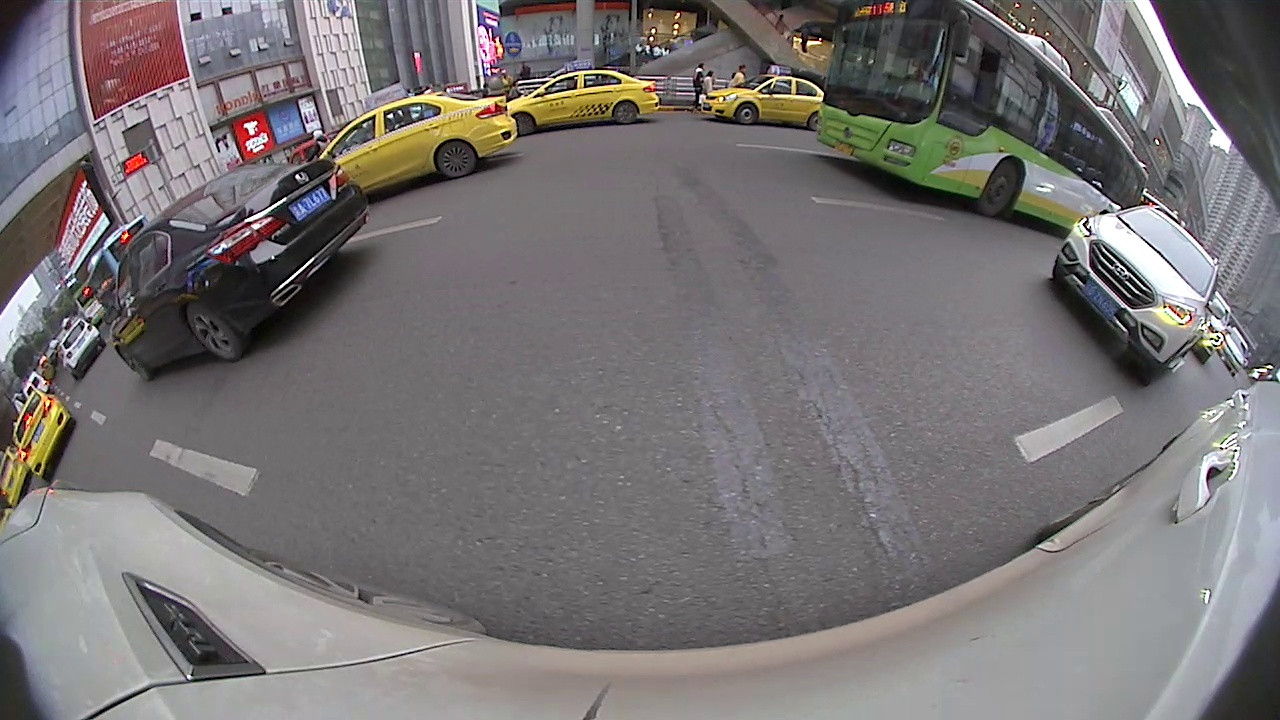bus: (822, 1, 1151, 238)
car: (106, 158, 374, 388), (1051, 204, 1221, 391), (317, 86, 522, 204), (497, 70, 664, 141), (694, 72, 826, 130), (9, 387, 76, 480), (53, 316, 108, 379), (1217, 327, 1256, 381)
front: (976, 159, 1021, 221), (117, 346, 154, 385), (511, 113, 538, 138), (735, 102, 760, 128)
rear: (181, 301, 246, 364), (435, 140, 478, 182), (611, 99, 641, 128)
